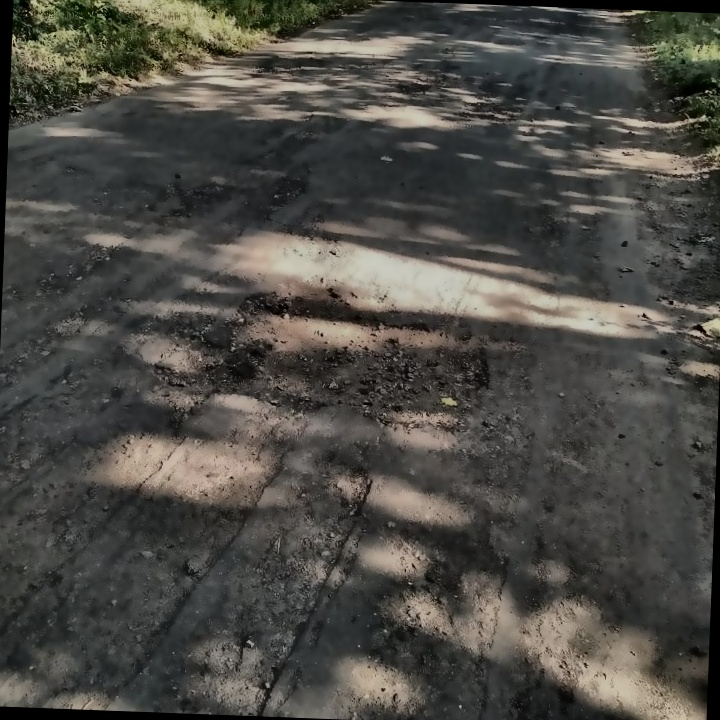pothole: (212, 272, 506, 425)
